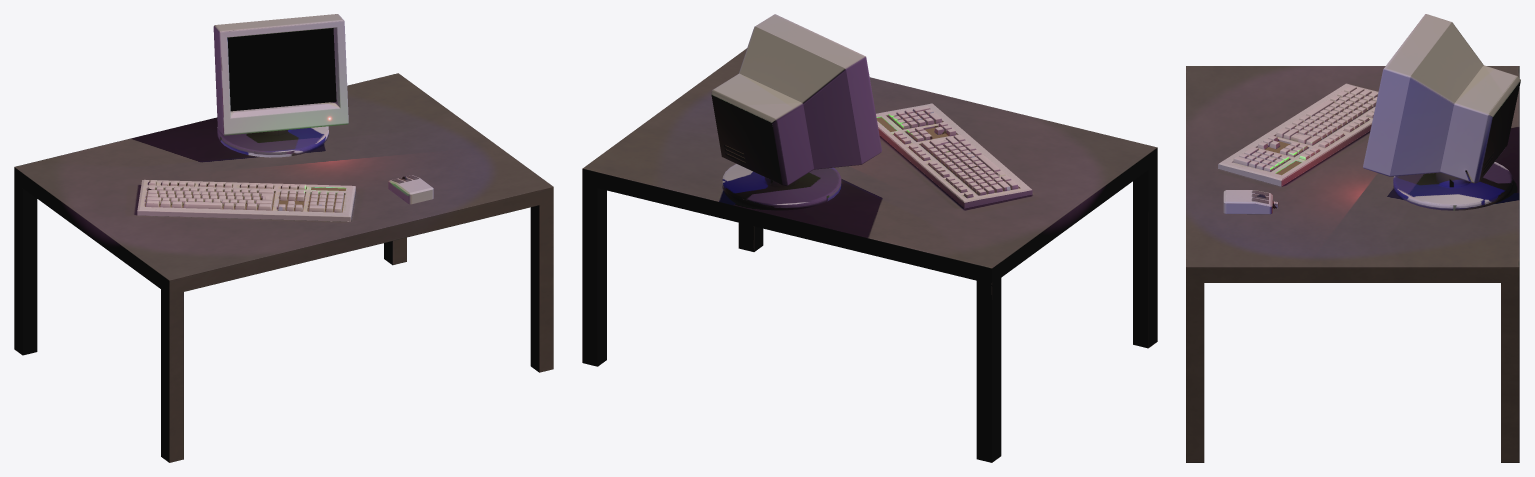
The model's file is seance2.glb.
3 views of the same model, side by side, from view 1: azimuth 30°, elevation 25°; view 2: azimuth 150°, elevation 25°; view 3: azimuth 270°, elevation 25° (orthographic). The views are drawn at different scales.
Parts seen in each view (by area): view 1: Table, Screen, ComputerCase, KeyboardCase, Base, Case; view 2: Table, ComputerCase, Base, KeyboardCase; view 3: Table, ComputerCase, Base, KeyboardCase, Case.
Part boxes in pixels (x1,y1,x2,y2): Table: (14,73,553,462); Screen: (227,28,336,111); ComputerCase: (213,14,348,135); KeyboardCase: (137,179,355,221); Base: (217,126,328,157); Case: (388,175,433,204); Table: (582,48,1157,462); ComputerCase: (711,14,881,185); Base: (722,163,841,210); KeyboardCase: (876,103,1032,208); Table: (1186,66,1519,462); ComputerCase: (1363,14,1520,183); Base: (1393,162,1513,210); KeyboardCase: (1218,83,1378,186); Case: (1223,190,1278,214).
Size of the model in its own units: 3.97 by 3.06 by 2.79.
9 materials, 7 textured.
